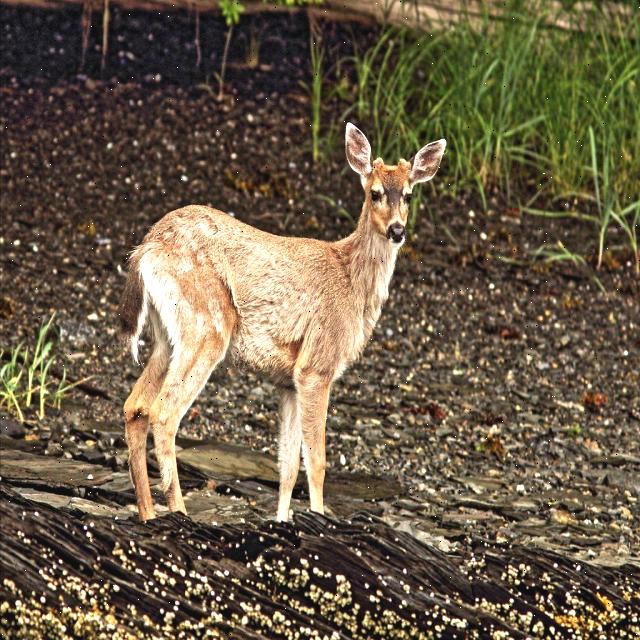deer: (303, 112, 466, 306)
